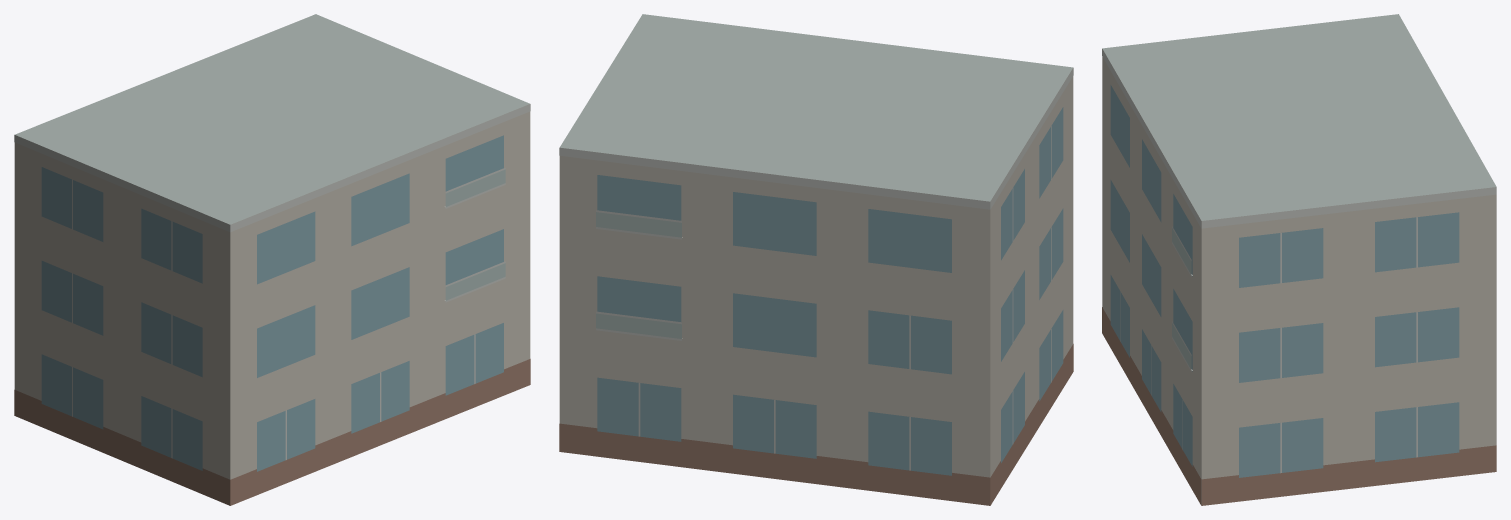
File: survey-upis-32717043.glb
The picture shows the model from 3 angles, left to right: view 1: azimuth 30°, elevation 25°; view 2: azimuth 150°, elevation 25°; view 3: azimuth 270°, elevation 25°; orthographic projection. The views are drawn at different scales.
Parts seen in each view (by area): view 1: survey-upis-32717043.tmp; view 2: survey-upis-32717043.tmp; view 3: survey-upis-32717043.tmp.
Part boxes in pixels (x1,y1,x2,y2): survey-upis-32717043.tmp: (14, 14, 530, 505); survey-upis-32717043.tmp: (559, 14, 1073, 505); survey-upis-32717043.tmp: (1102, 14, 1496, 505).
Bounding box in the file's own units: 14.27 × 9.15 × 11.5.
